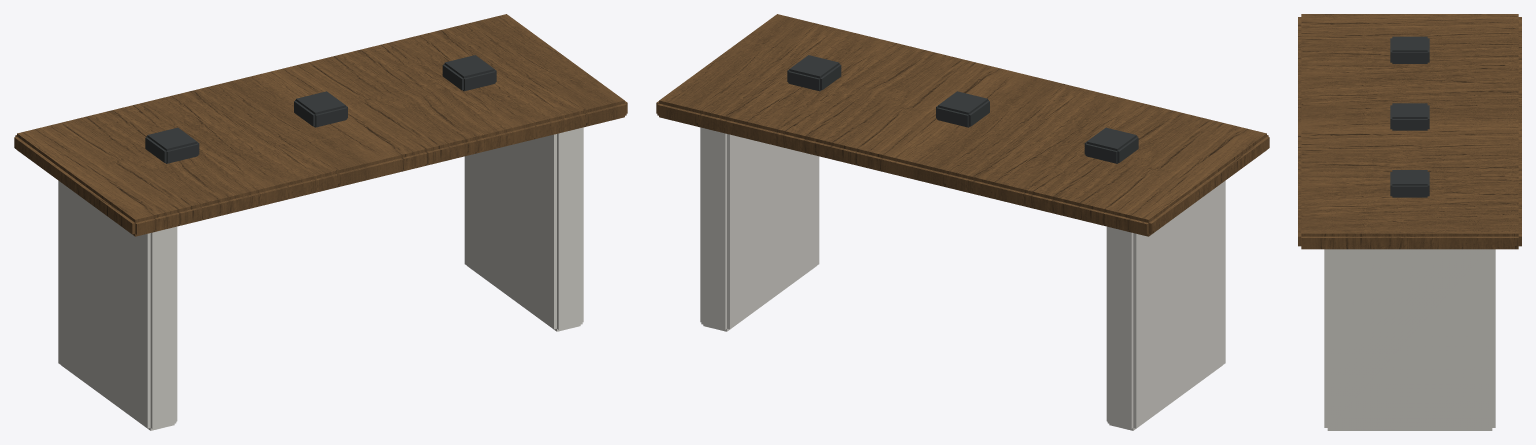
File: fixture_v23_electronics_demo.glb
The picture shows the model from 3 angles, left to right: view 1: azimuth 30°, elevation 25°; view 2: azimuth 150°, elevation 25°; view 3: azimuth 270°, elevation 25°; orthographic projection. The views are drawn at different scales.
Visible parts, largest first — view 1: fixture_v23_electronics_demo_CC0_Oak_veneer, fixture_v23_electronics_demo_Warm_white_coating, fixture_v23_electronics_demo_Anodised_graphite; view 2: fixture_v23_electronics_demo_CC0_Oak_veneer, fixture_v23_electronics_demo_Warm_white_coating, fixture_v23_electronics_demo_Anodised_graphite; view 3: fixture_v23_electronics_demo_CC0_Oak_veneer, fixture_v23_electronics_demo_Warm_white_coating, fixture_v23_electronics_demo_Anodised_graphite.
Part boxes in pixels (<box>): fixture_v23_electronics_demo_CC0_Oak_veneer: <box>14,14,627,236</box>; fixture_v23_electronics_demo_Warm_white_coating: <box>58,127,583,430</box>; fixture_v23_electronics_demo_Anodised_graphite: <box>145,55,496,163</box>; fixture_v23_electronics_demo_CC0_Oak_veneer: <box>656,14,1269,236</box>; fixture_v23_electronics_demo_Warm_white_coating: <box>700,127,1225,430</box>; fixture_v23_electronics_demo_Anodised_graphite: <box>787,55,1138,163</box>; fixture_v23_electronics_demo_CC0_Oak_veneer: <box>1298,14,1521,249</box>; fixture_v23_electronics_demo_Warm_white_coating: <box>1324,249,1495,430</box>; fixture_v23_electronics_demo_Anodised_graphite: <box>1390,36,1429,197</box>.
Bounding box in the file's own units: 2 × 0.94 × 0.85.
3 materials, 1 textured.
